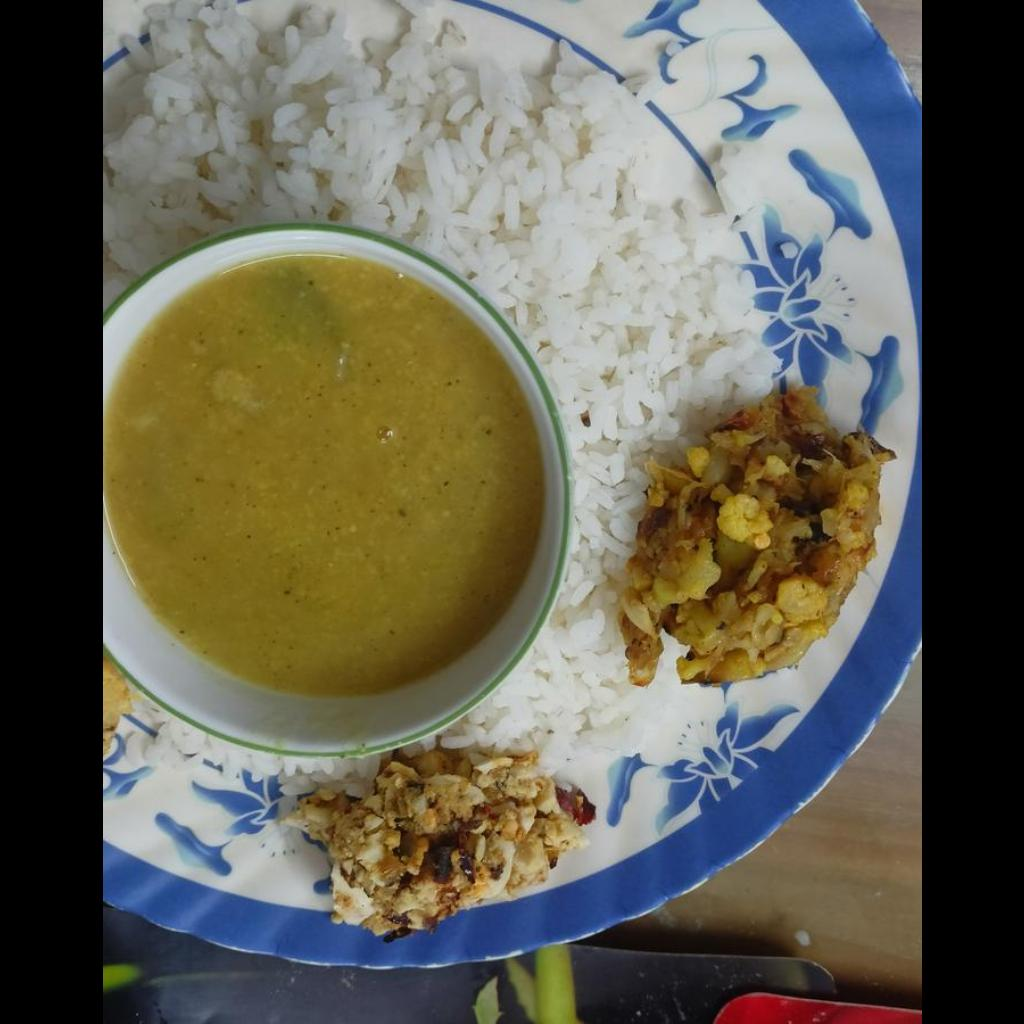daal: (102, 260, 538, 690)
rice: (104, 0, 775, 763)
vaji: (619, 379, 899, 681)
vorta: (296, 751, 589, 940)
